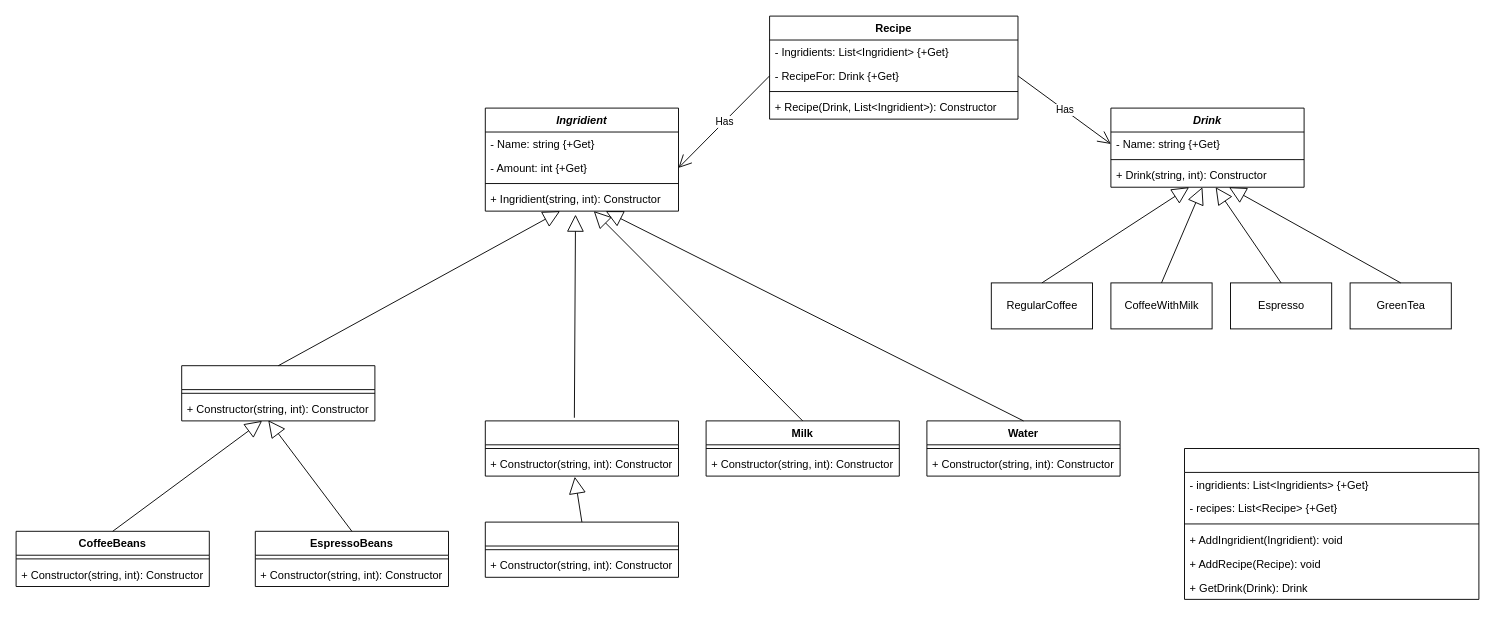
Image size: 1495x618. Some labels were removed from this diagram. The shapes that lost their labels are listed below. From the top down, each one's box as (x1, y1, x2, y2) in pixels, then its label:
(181, 365, 375, 421): Beans
(484, 420, 678, 476): TeaLeafs
(1184, 448, 1479, 599): Machine
(484, 521, 678, 577): GreenTeaLeafs
